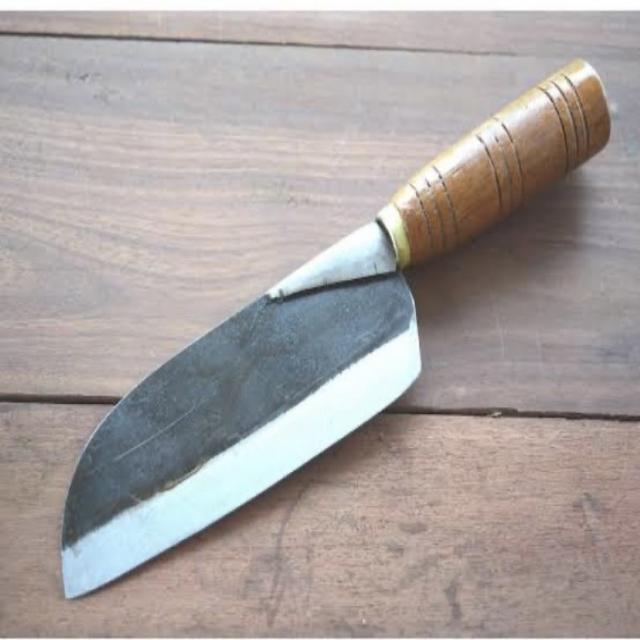Knife: (59, 47, 618, 608)
